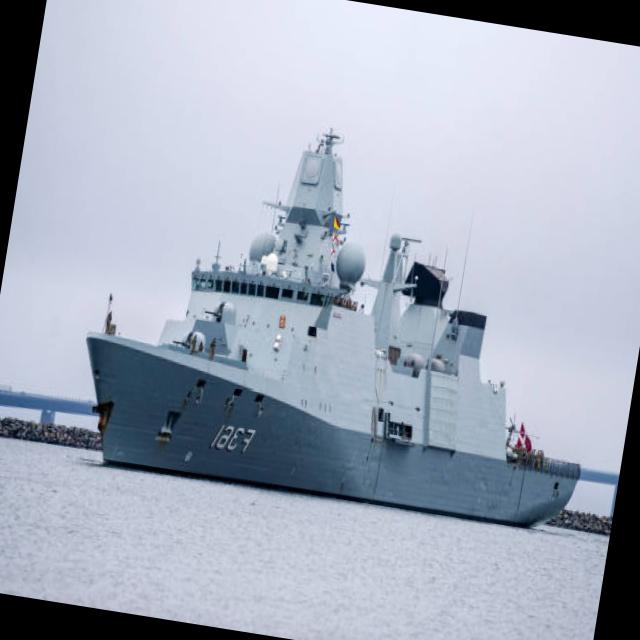Military: (85, 135, 581, 531)
